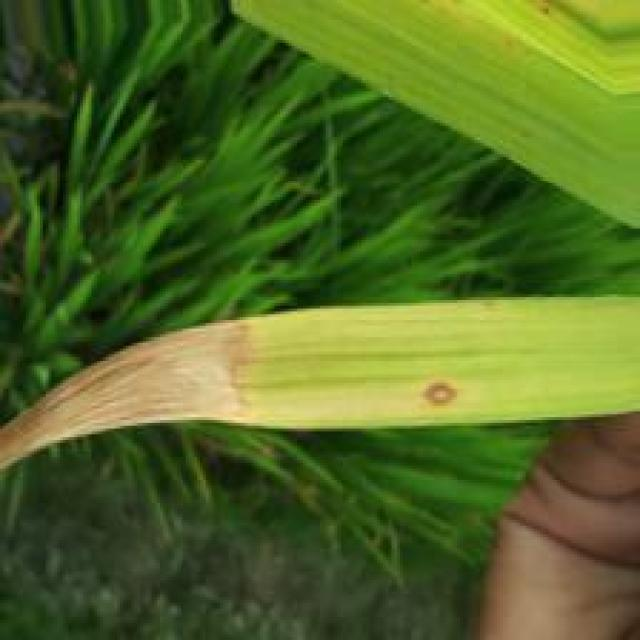Leaf_Scald: (1, 321, 255, 469), (423, 380, 456, 408)
